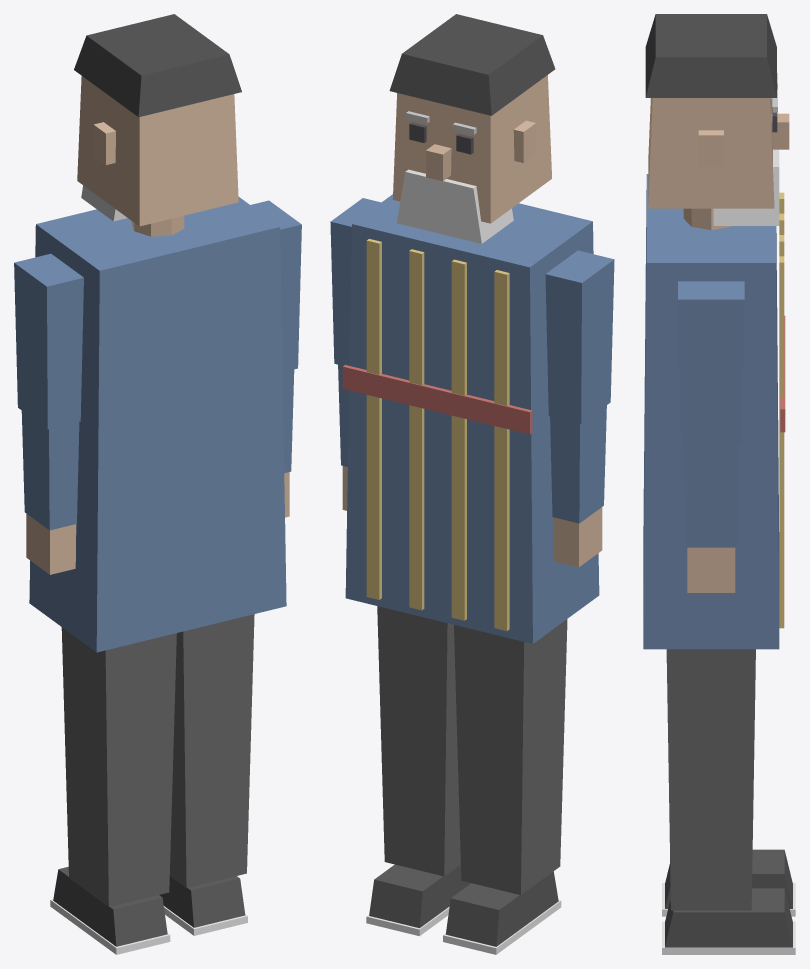
The model's file is elder.glb.
3 renders of one model, left to right at view 1: azimuth 30°, elevation 25°; view 2: azimuth 150°, elevation 25°; view 3: azimuth 270°, elevation 25°, orthographic. The views are drawn at different scales.
Visible parts, largest first — view 1: Torso, LegMesh, HeadMesh, LegMesh2, ArmMesh, ArmMesh2; view 2: Torso, LegMesh, HeadMesh, LegMesh2, ArmMesh, ArmMesh2; view 3: Torso, LegMesh2, HeadMesh, ArmMesh2, LegMesh.
Boxes of the visible parts, <box> form: Torso: <box>29,197,286,652</box>; LegMesh: <box>50,627,176,954</box>; HeadMesh: <box>74,14,241,226</box>; LegMesh2: <box>159,614,254,935</box>; ArmMesh: <box>14,253,83,574</box>; ArmMesh2: <box>250,200,301,517</box>; Torso: <box>342,194,599,643</box>; LegMesh: <box>443,619,567,954</box>; HeadMesh: <box>389,14,555,243</box>; LegMesh2: <box>366,606,470,936</box>; ArmMesh: <box>545,250,614,567</box>; ArmMesh2: <box>330,198,380,510</box>; Torso: <box>643,174,785,649</box>; LegMesh2: <box>662,649,795,954</box>; HeadMesh: <box>645,14,789,225</box>; ArmMesh2: <box>678,281,744,592</box>; LegMesh: <box>662,849,795,916</box>.
Bounding box in the file's own units: 0.591 × 1.94 × 0.3025.
